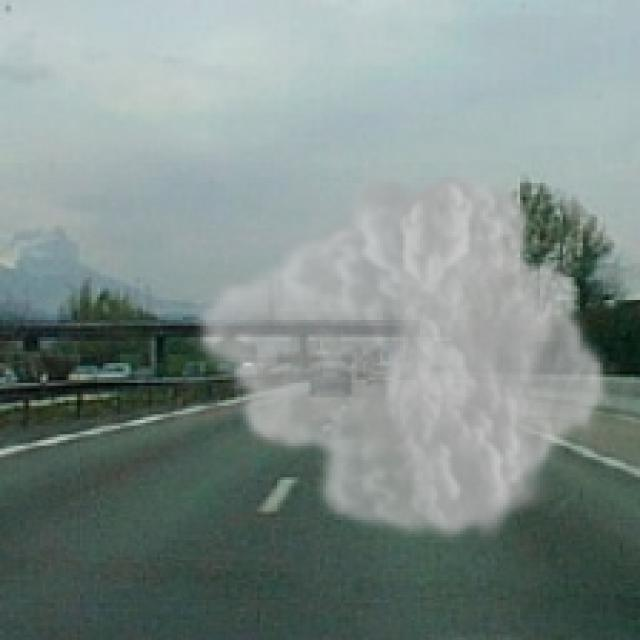Smoke: (188, 162, 612, 548)
